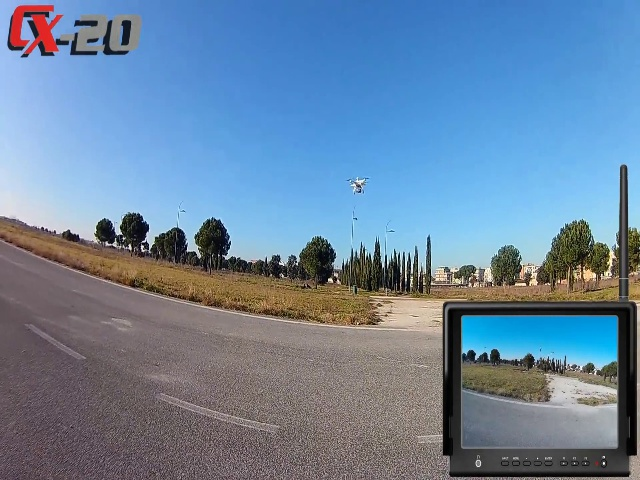drone: (346, 172, 371, 197)
